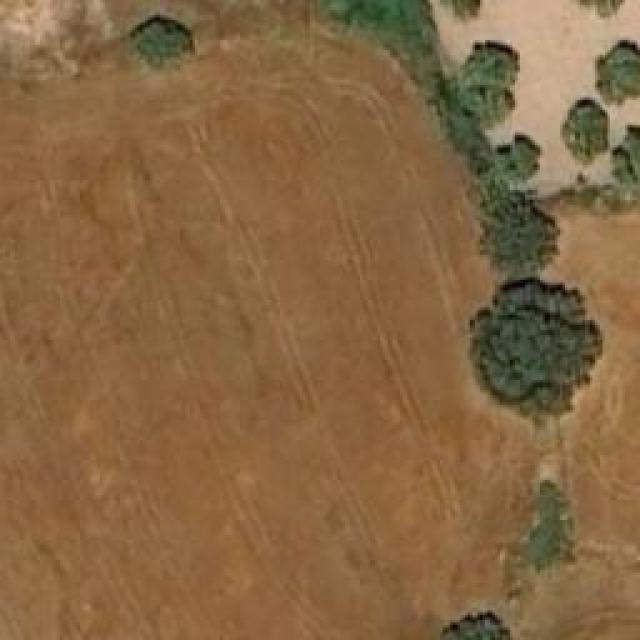Tree: (468, 278, 603, 428), (473, 198, 562, 275), (454, 38, 522, 119), (320, 0, 420, 42), (560, 98, 611, 160), (130, 18, 195, 63), (597, 37, 640, 104), (438, 605, 511, 640), (495, 130, 545, 179), (423, 0, 483, 21), (570, 0, 625, 20)
